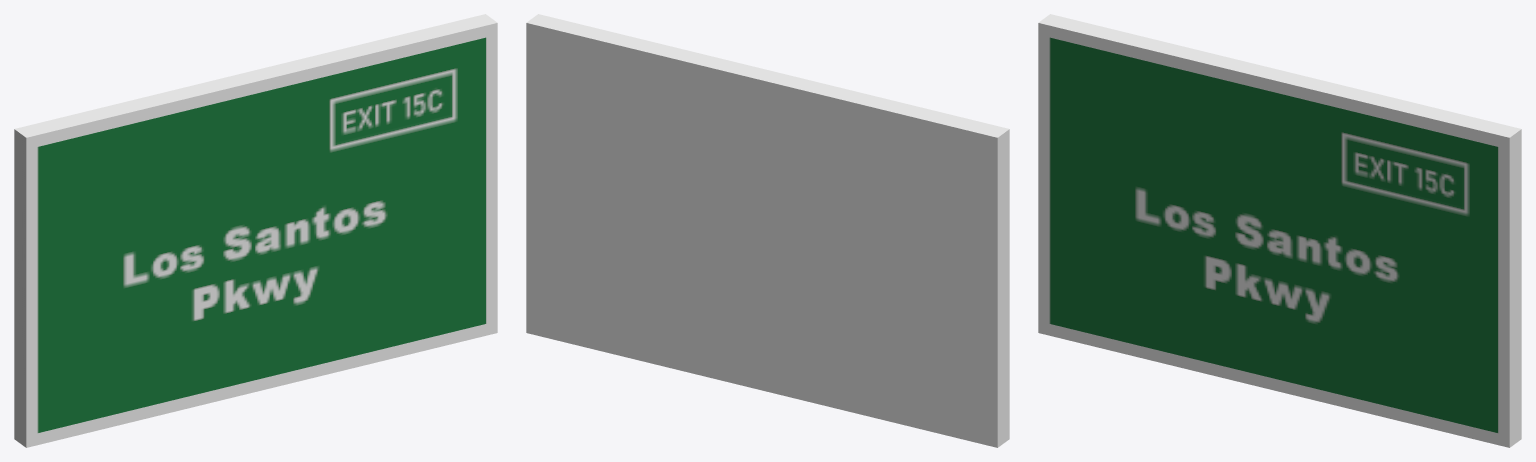
Rendered from road_signboard_04.fbx.
The picture shows the model from 3 angles, left to right: view 1: azimuth 30°, elevation 25°; view 2: azimuth 150°, elevation 25°; view 3: azimuth 330°, elevation 25°; orthographic projection.
Parts seen in each view (by area): view 1: road_signboard_04; view 2: road_signboard_04; view 3: road_signboard_04.
Part boxes in pixels (x1=…): road_signboard_04: x1=14, y1=14, x2=497, y2=447; road_signboard_04: x1=526, y1=14, x2=1009, y2=447; road_signboard_04: x1=1038, y1=14, x2=1521, y2=447.
Bounding box in the file's own units: 543 × 341 × 24.07.
